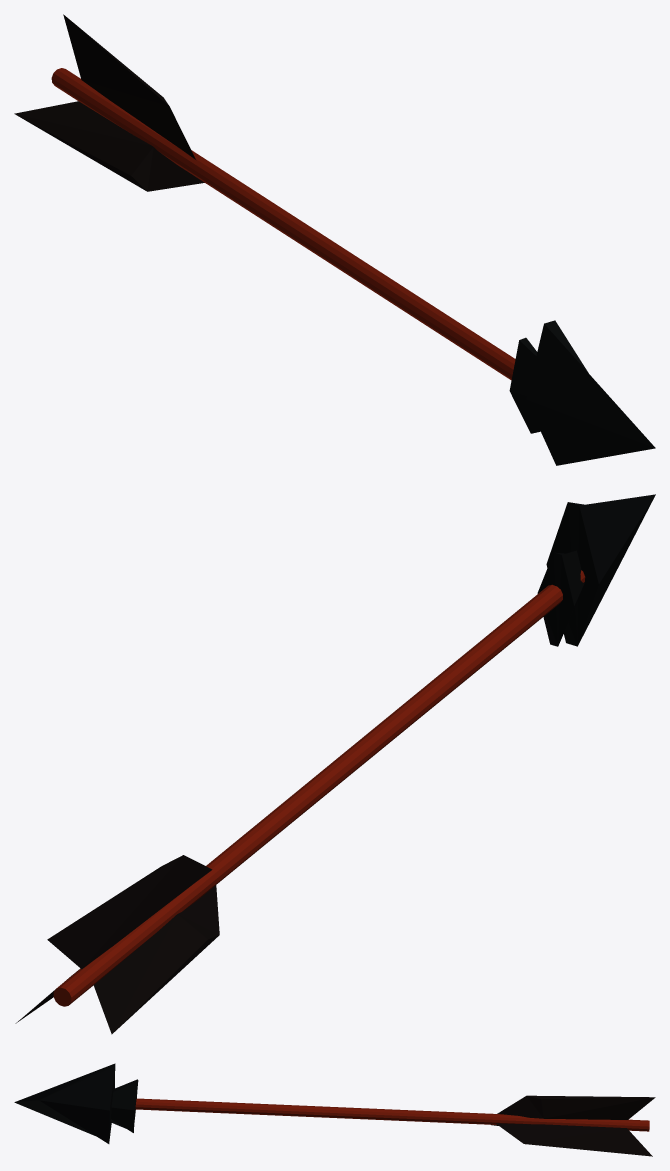
File: arrow.glb
3 renders of one model, top to bottom at view 1: azimuth 30°, elevation 25°; view 2: azimuth 150°, elevation 25°; view 3: azimuth 270°, elevation 25°, orthographic. The views are drawn at different scales.
Visible parts, largest first — view 1: node_MeshObject2081650048-PolyPaper20; view 2: node_MeshObject2081650048-PolyPaper20; view 3: node_MeshObject2081650048-PolyPaper20.
Part boxes in pixels (x1=…): node_MeshObject2081650048-PolyPaper20: x1=14, y1=14, x2=655, y2=465; node_MeshObject2081650048-PolyPaper20: x1=15, y1=494, x2=655, y2=1034; node_MeshObject2081650048-PolyPaper20: x1=14, y1=1063, x2=655, y2=1156.
Size of the model in its own units: 0.0502 by 0.0789 by 0.5679.
